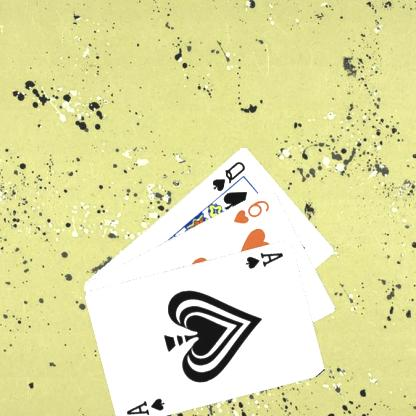6H: (230, 196, 271, 226)
AS: (124, 394, 166, 416), (243, 249, 285, 270)
QS: (209, 158, 247, 193)
